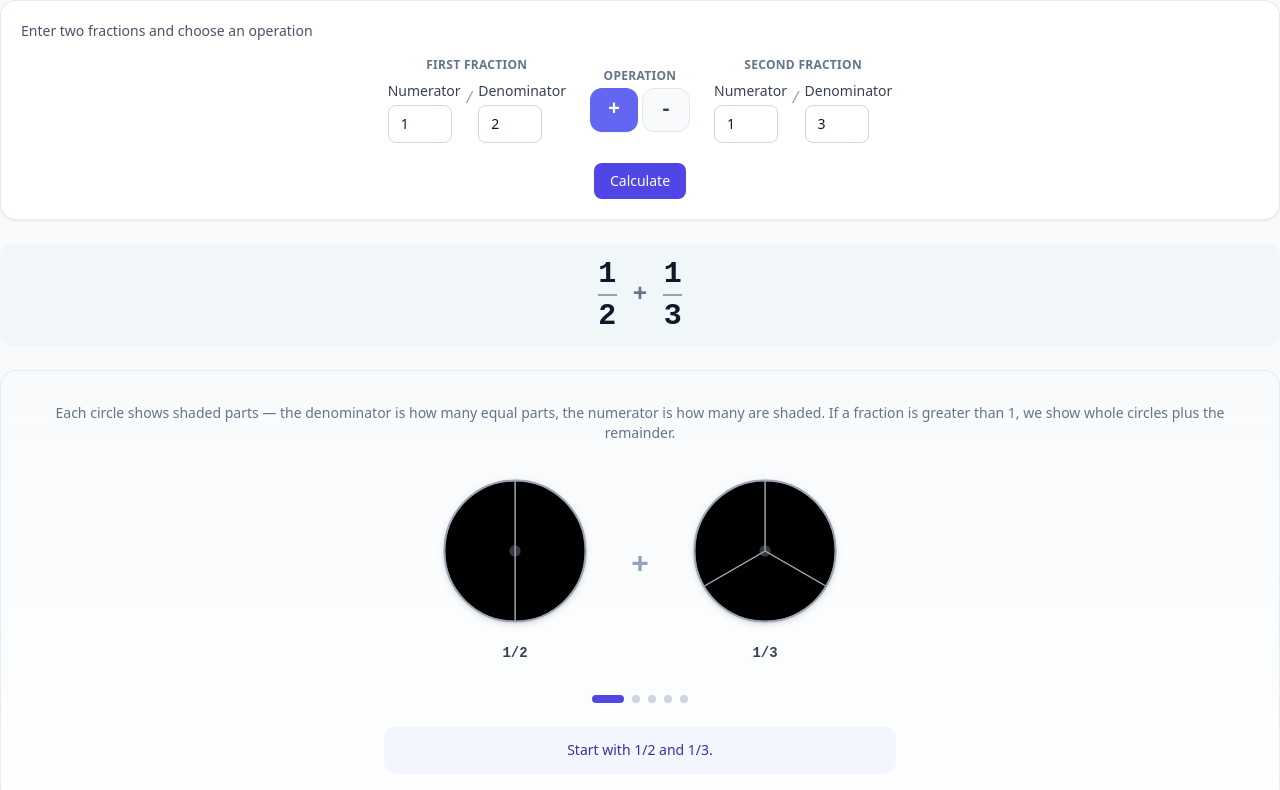
Scenario: FractionCalculator › narration region updates when stepping through
Click calculate to populate steps
Click the button "Calculate": (640, 181) [594,163,686,199]
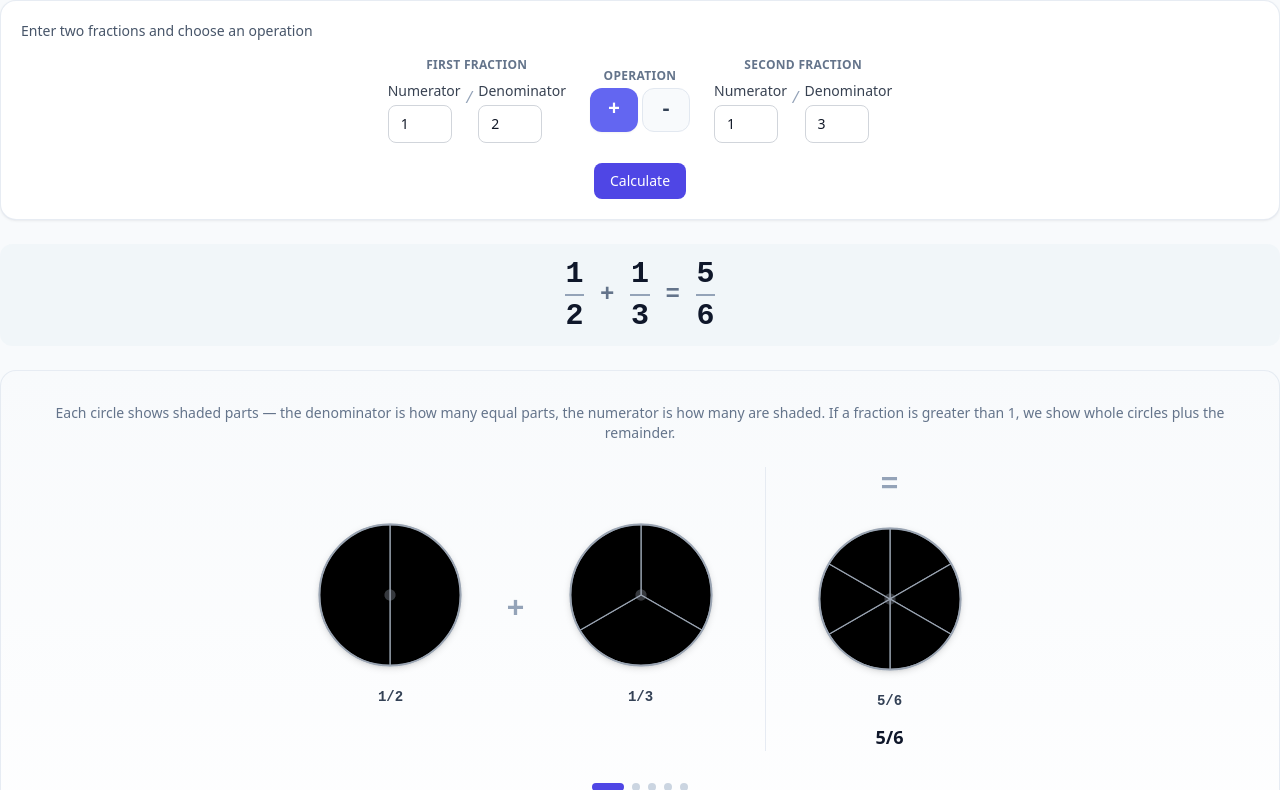
Check: the 2nd text "5/6" is shown, box [876,723,904,751]
